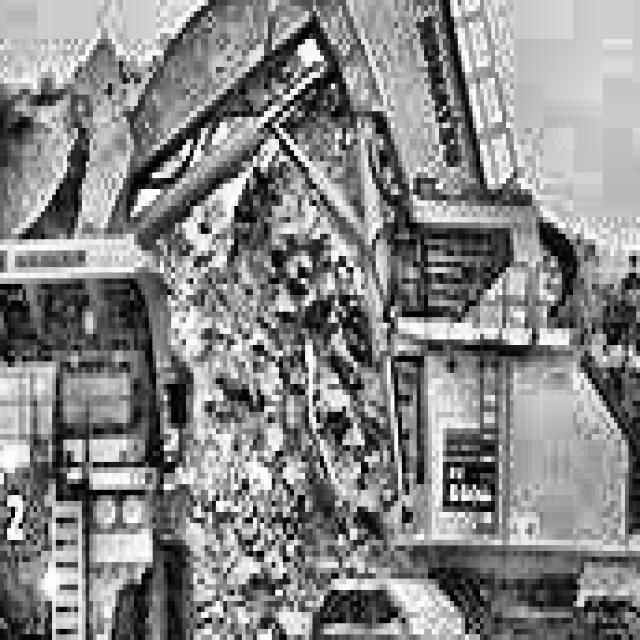dump_truck: (0, 156, 234, 640)
excavator: (0, 0, 640, 640)
